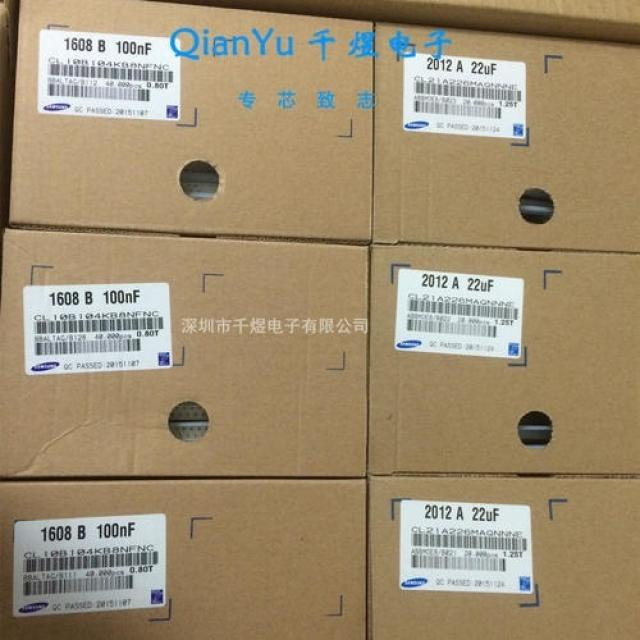box: (0, 229, 369, 481), (2, 1, 374, 242), (365, 244, 639, 479), (374, 22, 639, 255), (0, 479, 370, 639), (368, 477, 639, 639)
